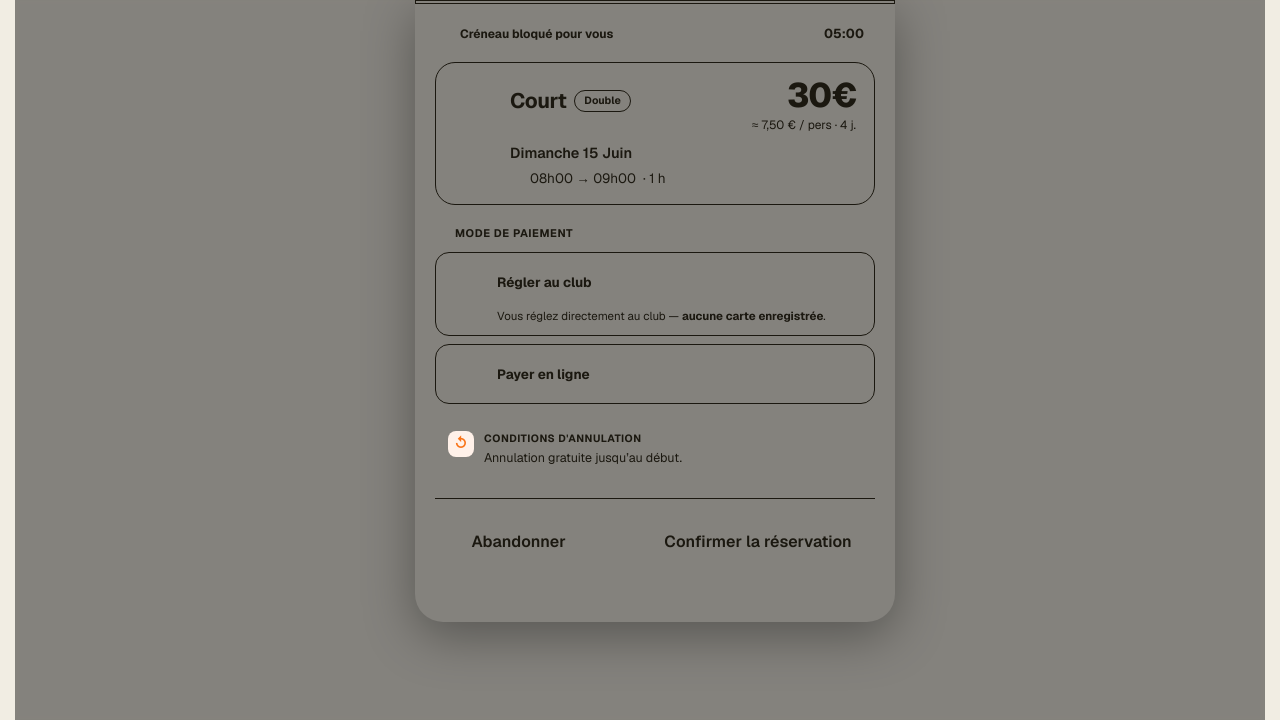
Test: BookingModal — page unique › payer en ligne affiche la part par personne (7,50€ = 30€ / 4)
The image size is (1280, 720).
Expected: the text "Créneau bloqué pour vous" is shown, [460, 26, 613, 42]
What coordinates should you click on to do the following:
click the button "Payer en ligne"
I would click on:
 (543, 374)
Its box is [449, 356, 861, 392].
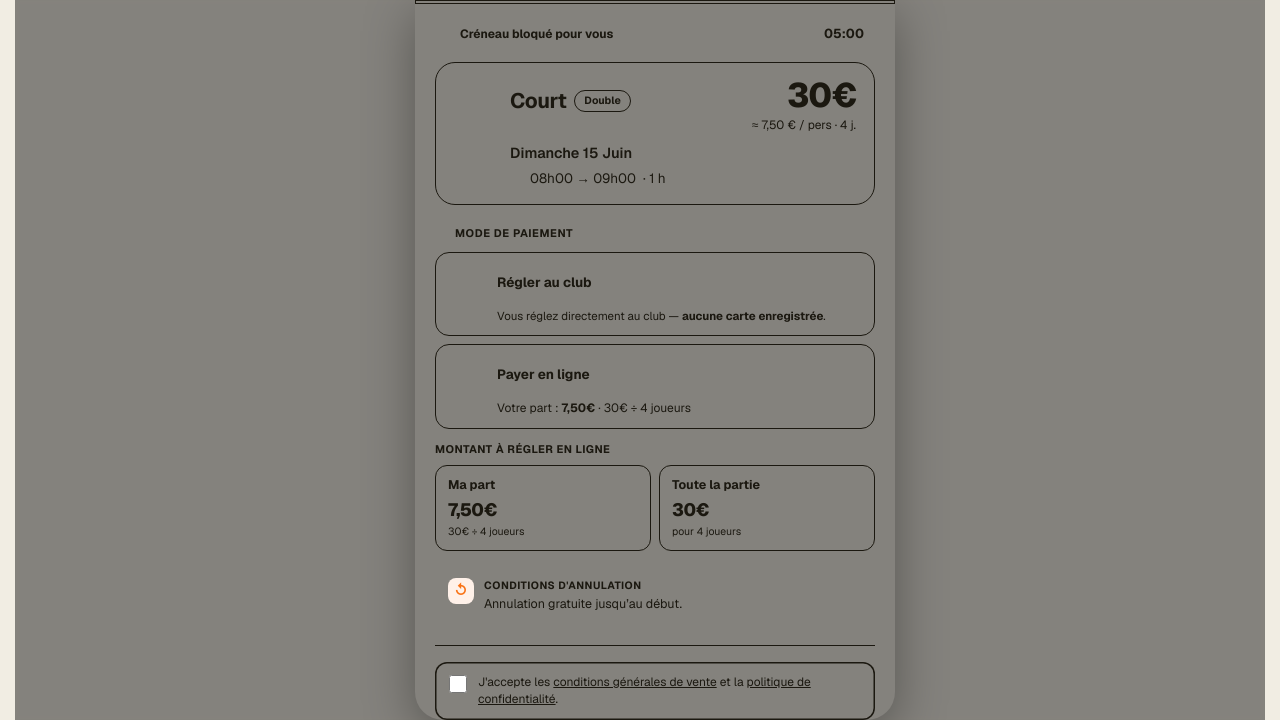
Expected: the text "≈ 7,50 € / pers · 4 j." is shown, [752, 116, 856, 134]
Expected: the text "Votre part : 7,50€ · 30€ ÷ 4 joueurs" is shown, [497, 400, 691, 416]
